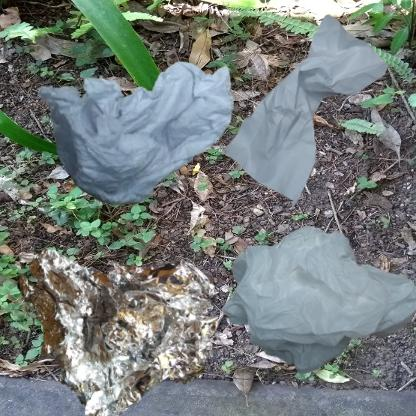aluminio: (10, 213, 246, 416)
bolsa: (213, 213, 416, 401)
papel: (10, 10, 265, 249), (213, 10, 400, 216)
